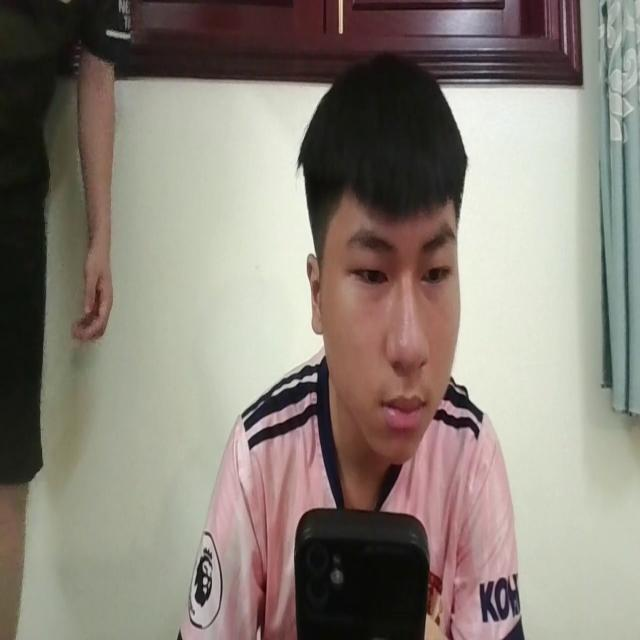extra_person: (0, 4, 123, 640)
phone: (286, 501, 409, 640)
student: (205, 55, 524, 640)
